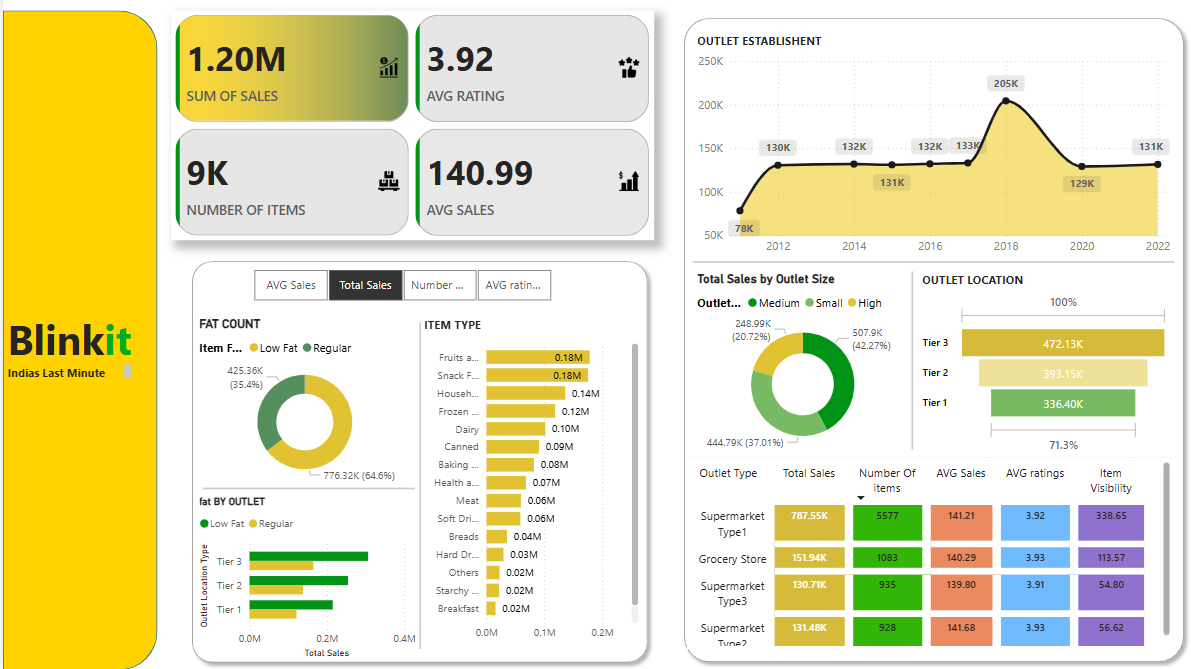

The page's visual inventory and layout, read from the dashboard file:
{"tool":"powerbi","page":{"name":"Page 1","canvas":[1400,800],"ordinal":0},"visuals":[{"type":"shape","box":[0,23,182,777.6],"z":0},{"type":"textbox","box":[289.1,640.6,281.6,79.4],"z":1000},{"type":"textbox","box":[0,371.1,175,83.1],"z":2000},{"type":"textbox","box":[0,434.8,155.5,33.6],"z":3000},{"type":"cardVisual","fields":{"Data":["Sum(BlinkIT Grocery Data.Sales)","BlinkIT Grocery Data.AVG ratings","BlinkIT Grocery Data.Number Of items","BlinkIT Grocery Data.AVG Sales"]},"box":[198.8,22.3,569.4,270.4],"z":4000},{"type":"shape","box":[213.8,309.3,554.9,491.3],"z":5000},{"type":"donutChart","title":"FAT COUNT","fields":{"Y":["BlinkIT Grocery Data.AVG Sales"],"Category":["BlinkIT Grocery Data.Item Fat Content"]},"box":[226.2,383.5,258,203.2],"z":6000},{"type":"slicer","fields":{"Values":["MTERICS.MTERICS"]},"box":[270.4,321.7,399.4,49.5],"z":7000},{"type":"clusteredBarChart","title":"fat BY OUTLET","fields":{"Y":["BlinkIT Grocery Data.AVG Sales"],"Series":["BlinkIT Grocery Data.Item Fat Content"],"Category":["BlinkIT Grocery Data.Outlet Location Type"]},"box":[226.2,593.8,265.4,196.2],"z":8000},{"type":"shape","box":[234.4,576.7,250,20],"z":9000},{"type":"barChart","title":" ITEM TYPE","fields":{"Y":["BlinkIT Grocery Data.AVG Sales"],"Category":["BlinkIT Grocery Data.Item Type"]},"box":[492,384,262,390],"z":10000},{"type":"shape","box":[448.9,390,85.6,384.4],"z":11000},{"type":"shape","box":[793.3,23.3,606.7,776.7],"z":12000},{"type":"lineChart","title":" OUTLET ESTABLISHENT","fields":{"Y":["BlinkIT Grocery Data.Total Sales"],"Category":["BlinkIT Grocery Data.Outlet Establishment Year"]},"box":[812.5,50,567.5,270],"z":13000},{"type":"shape","box":[812.9,310,567.1,20],"z":14000},{"type":"donutChart","fields":{"Y":["BlinkIT Grocery Data.Total Sales"],"Category":["BlinkIT Grocery Data.Outlet Size"]},"box":[812.9,330,258.6,220],"z":15000},{"type":"funnel","title":"OUTLET LOCATION","fields":{"Category":["BlinkIT Grocery Data.Outlet Location Type"],"Y":["Sum(BlinkIT Grocery Data.Sales)"]},"box":[1078.6,330,300,220],"z":16000},{"type":"shape","box":[811.4,540,567.1,20],"z":17000},{"type":"shape","box":[1028.6,330,85.7,210],"z":18000},{"type":"pivotTable","fields":{"Rows":["BlinkIT Grocery Data.Outlet Type"],"Values":["BlinkIT Grocery Data.Total Sales","BlinkIT Grocery Data.Number Of items","BlinkIT Grocery Data.AVG Sales","BlinkIT Grocery Data.AVG ratings","Sum(BlinkIT Grocery Data.Item Visibility)"]},"box":[805.9,549.6,574.4,226.2],"z":19000}]}

Visuals, with their boxes in screenshot pixels (x1, y1, x2, y2), scaled from the page's 1400x800 canvas onto the 1191x669 screenshot:
shape: bbox=[0, 19, 155, 668]
textbox: bbox=[246, 536, 486, 602]
textbox: bbox=[0, 310, 149, 380]
textbox: bbox=[0, 364, 132, 392]
cardVisual - Sum(BlinkIT Grocery Data.Sales) x BlinkIT Grocery Data.AVG ratings: bbox=[169, 19, 654, 245]
shape: bbox=[182, 259, 654, 668]
"FAT COUNT" donutChart: bbox=[192, 321, 412, 491]
slicer - MTERICS.MTERICS: bbox=[230, 269, 570, 310]
"fat BY OUTLET" clusteredBarChart: bbox=[192, 497, 418, 661]
shape: bbox=[199, 482, 412, 499]
" ITEM TYPE" barChart: bbox=[419, 321, 641, 647]
shape: bbox=[382, 326, 455, 648]
shape: bbox=[675, 19, 1190, 668]
" OUTLET ESTABLISHENT" lineChart: bbox=[691, 42, 1174, 268]
shape: bbox=[692, 259, 1174, 276]
donutChart - BlinkIT Grocery Data.Total Sales x BlinkIT Grocery Data.Outlet Size: bbox=[692, 276, 912, 460]
"OUTLET LOCATION" funnel: bbox=[918, 276, 1173, 460]
shape: bbox=[690, 452, 1173, 468]
shape: bbox=[875, 276, 948, 452]
pivotTable - BlinkIT Grocery Data.Outlet Type x BlinkIT Grocery Data.Total Sales: bbox=[686, 460, 1174, 649]
